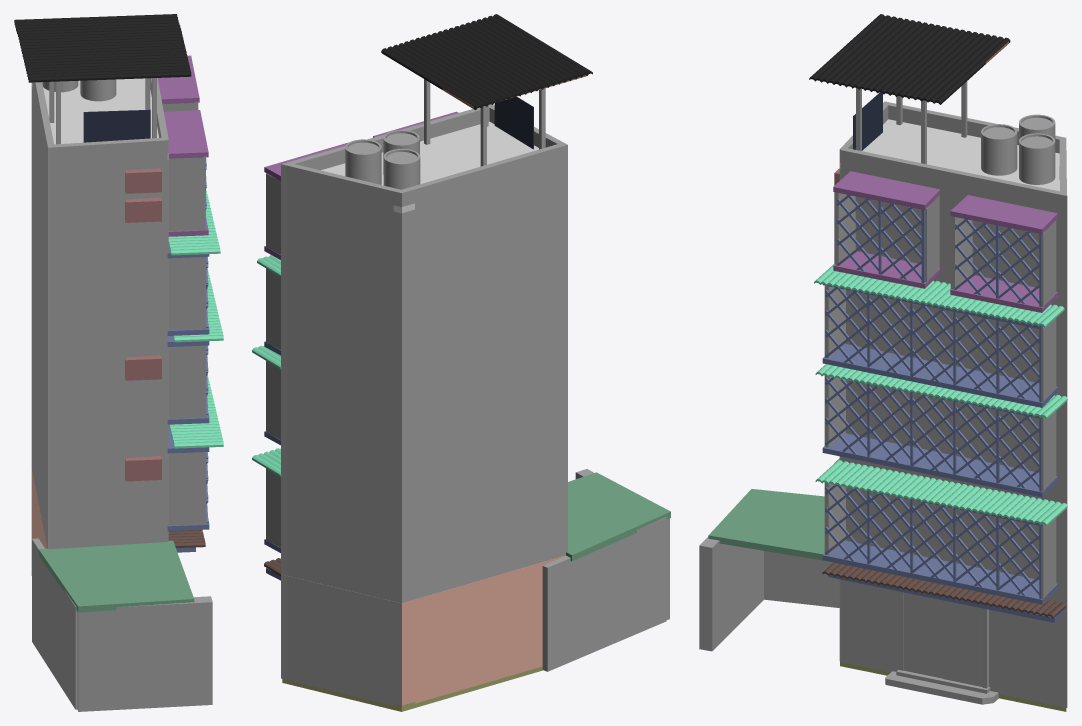
File: house4.fbx
3 views of the same model, side by side, from view 1: azimuth 30°, elevation 25°; view 2: azimuth 150°, elevation 25°; view 3: azimuth 270°, elevation 25° (orthographic).
Parts seen in each view (by area): view 1: park_wall1, wall4, wall7, wall2, balcony7, wall6, balcony6, park_ceiling, park_wall, balcony2, air, balcony8 (+11 smaller); view 2: wall9, wall5, wall4, wall7, wall3, wall, wall8, park_wall, wall2, wall6, balcony6, park_ceiling (+8 smaller); view 3: balcony, wall8, balcony2, wall5, balcony9, wall3, balcony7, balcony6, wall7, balcony8, park_wall1, door3 (+9 smaller).
Boxes of the visible parts, <box> form: park_wall1: <box>49,78,212,711</box>; wall4: <box>31,82,167,250</box>; wall7: <box>31,371,168,549</box>; wall2: <box>50,243,167,352</box>; balcony7: <box>162,101,206,525</box>; wall6: <box>50,344,167,454</box>; balcony6: <box>14,14,191,82</box>; park_ceiling: <box>38,540,194,612</box>; park_wall: <box>32,538,77,709</box>; balcony2: <box>168,189,223,448</box>; air: <box>125,168,161,481</box>; balcony8: <box>157,55,208,236</box>; wall9: <box>287,473,401,707</box>; wall5: <box>281,104,567,400</box>; wall4: <box>401,104,567,296</box>; wall7: <box>281,450,567,602</box>; wall3: <box>281,353,567,679</box>; wall: <box>402,555,565,705</box>; wall8: <box>281,268,401,504</box>; park_wall: <box>542,517,666,671</box>; wall2: <box>287,163,403,297</box>; wall6: <box>287,269,401,401</box>; balcony6: <box>381,14,592,109</box>; park_ceiling: <box>566,472,670,561</box>; balcony: <box>824,194,1041,598</box>; wall8: <box>846,274,1067,500</box>; balcony2: <box>814,264,1067,526</box>; wall5: <box>840,148,1067,299</box>; balcony9: <box>822,344,1057,604</box>; wall3: <box>840,579,1067,707</box>; balcony7: <box>824,192,1056,598</box>; balcony6: <box>809,14,1010,104</box>; wall7: <box>839,456,1067,603</box>; balcony8: <box>833,171,1057,312</box>; park_wall1: <box>699,81,967,660</box>; door3: <box>903,592,982,686</box>.
Size of the model in its own units: 6.8 by 14.32 by 8.06.
